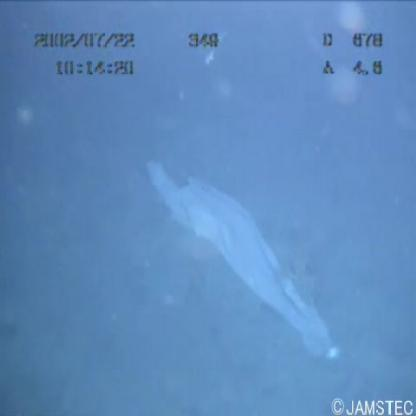Rác: (140, 149, 346, 369)
